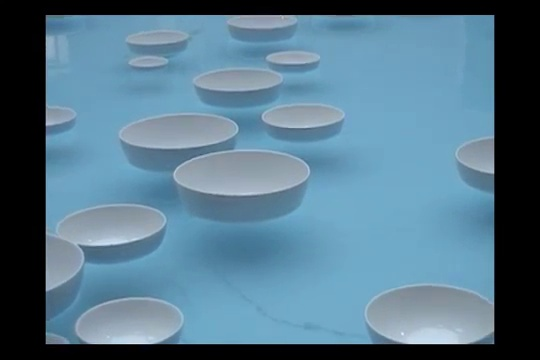bowl: (173, 150, 310, 219), (364, 283, 493, 344), (119, 113, 240, 173), (56, 205, 167, 262), (76, 298, 184, 343), (194, 69, 283, 107), (262, 105, 344, 141), (228, 15, 297, 39), (126, 31, 189, 55), (266, 51, 320, 72), (127, 57, 170, 69)
